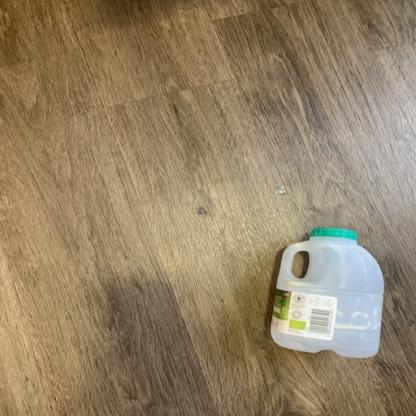trash: (267, 224, 387, 362)
